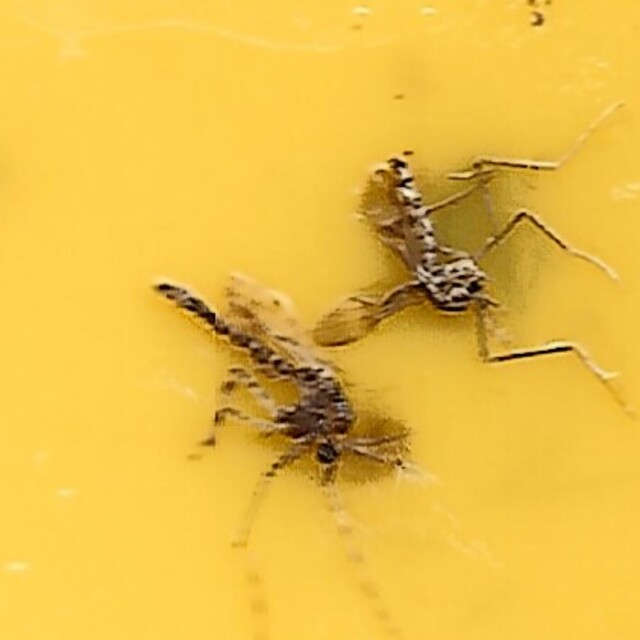Nematocera: (152, 278, 361, 483), (318, 157, 488, 355)
